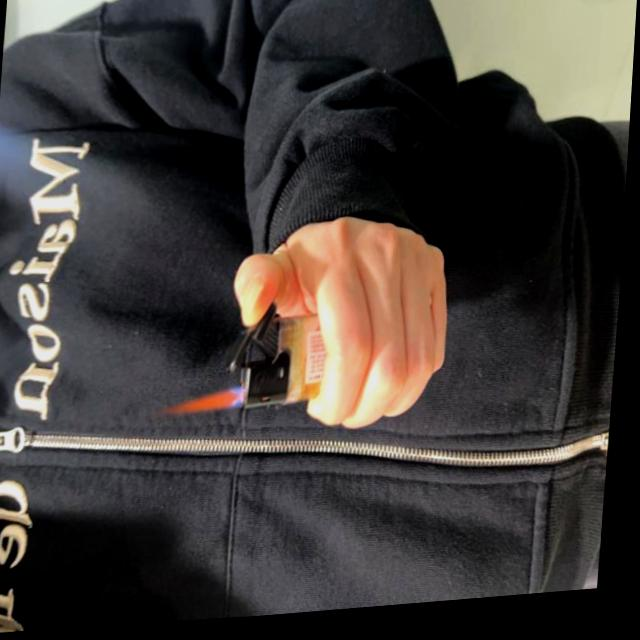Fire: (174, 390, 247, 421)
